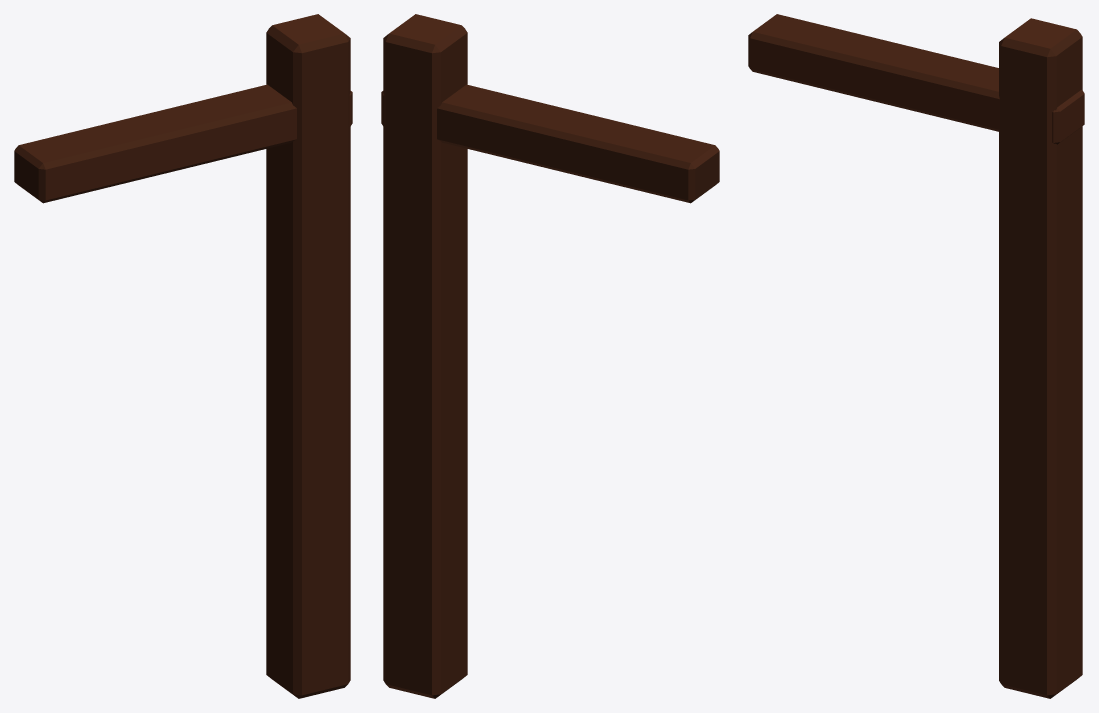
The model's file is D13_Sign_Post.fbx.
3 renders of one model, left to right at view 1: azimuth 30°, elevation 25°; view 2: azimuth 150°, elevation 25°; view 3: azimuth 330°, elevation 25°, orthographic.
Parts seen in each view (by area): view 1: D13_Sign_Post; view 2: D13_Sign_Post; view 3: D13_Sign_Post.
Boxes of the visible parts, left/top/right/bottom form: D13_Sign_Post: left=14, top=14, right=352, bottom=698; D13_Sign_Post: left=381, top=14, right=719, bottom=698; D13_Sign_Post: left=748, top=14, right=1084, bottom=698.
Size of the model in its own units: 0.98 by 1.95 by 0.18.
1 material, 1 textured.
